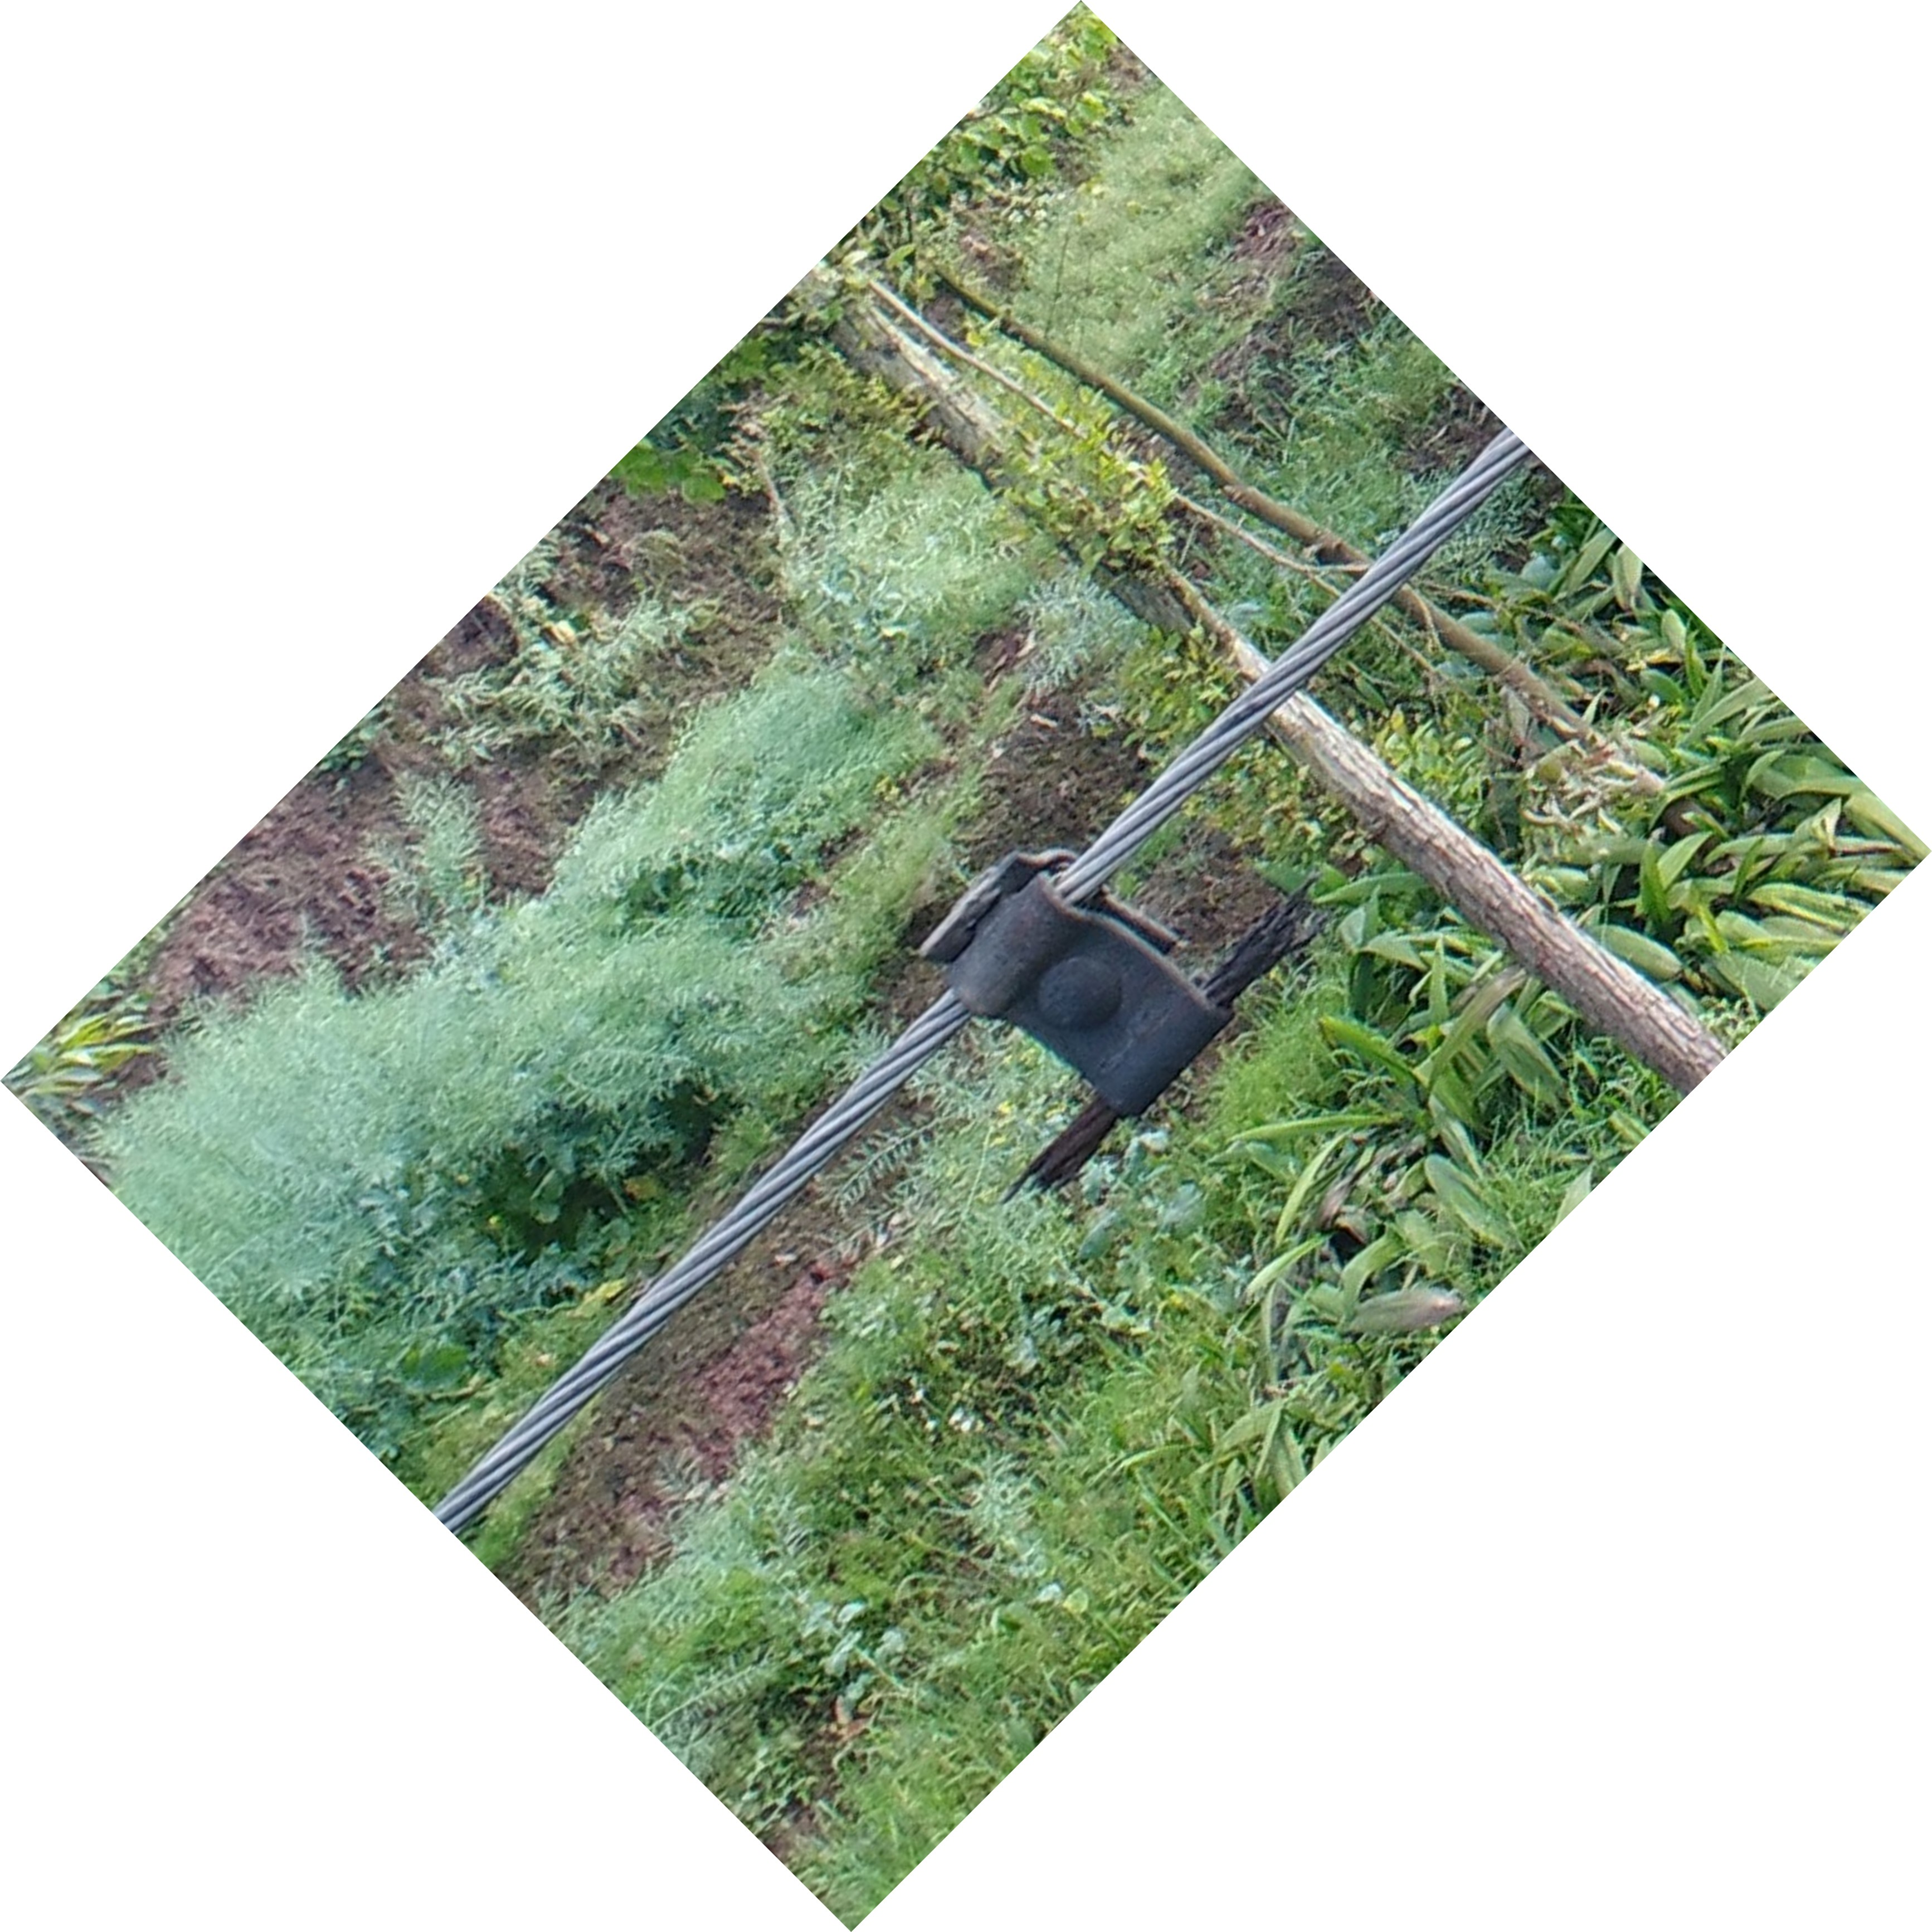Damage of shockproof hammer: (874, 805, 1338, 1221)
